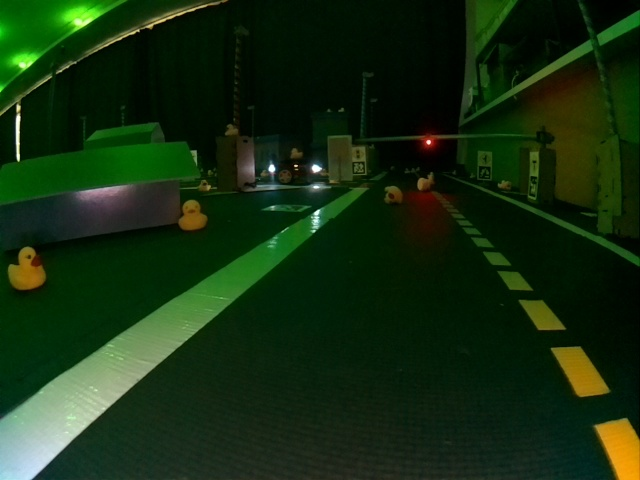Duckie: (8, 247, 47, 289), (179, 200, 207, 228), (384, 186, 403, 198), (224, 124, 239, 136), (420, 178, 430, 191), (290, 148, 303, 158), (200, 180, 211, 190), (500, 180, 511, 190)
Duckiebot: (277, 160, 319, 185)
Intersection sign: (480, 152, 492, 164), (532, 153, 539, 173)
QR code: (262, 203, 312, 213), (479, 166, 491, 181), (352, 161, 365, 174), (531, 177, 538, 199)
